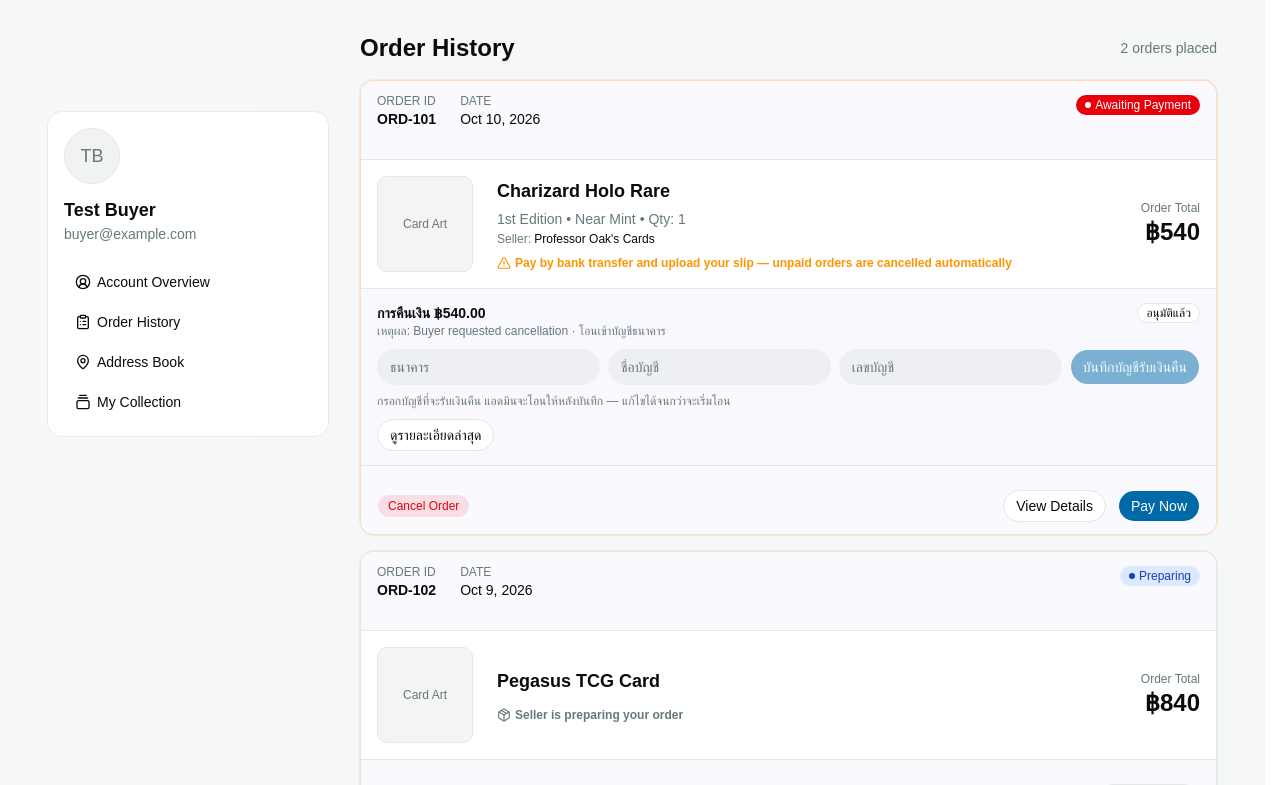
it: OrderHistoryPage › opens View Details modal with sticky close button, formatted status, and no bottom close button
This screenshot has width=1280, height=785.
What coordinates should you click on to do the following:
click the button "View Details" below "อนุมัติแล้ว"
I would click on:
 (1055, 506)
Its box is x1=1003 y1=490 x2=1106 y2=522.
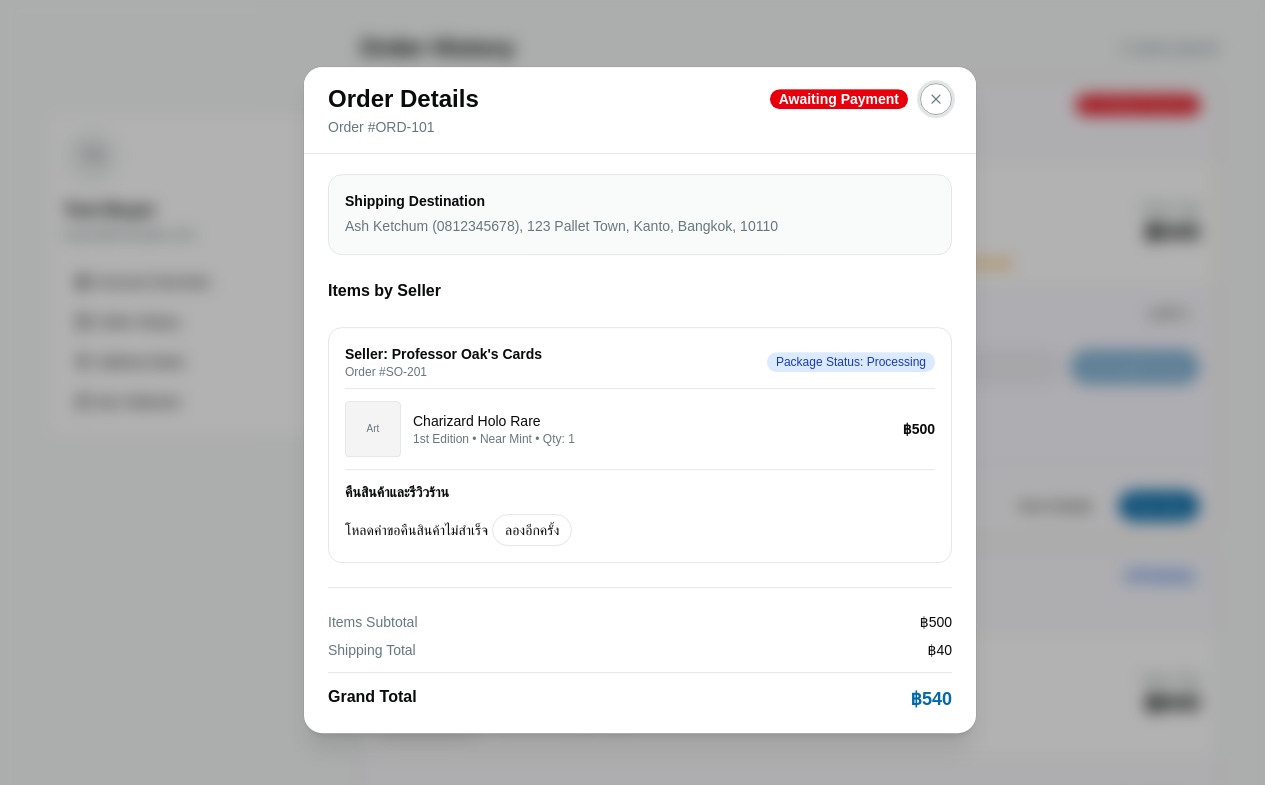
Check: the heading "Order Details" is shown, box x1=328 y1=83 x2=479 y2=115
Check: the text "Order #ORD-101" is shown, box x1=328 y1=119 x2=435 y2=135
Check: the text "Package Status: Processing" is shown, box x1=767 y1=352 x2=935 y2=372
// Clicking top-right close icon button closes the modal
What coordinates should you click on to do the following:
click the button named "close"
I would click on:
 (936, 99)
Its box is x1=920 y1=83 x2=952 y2=115.
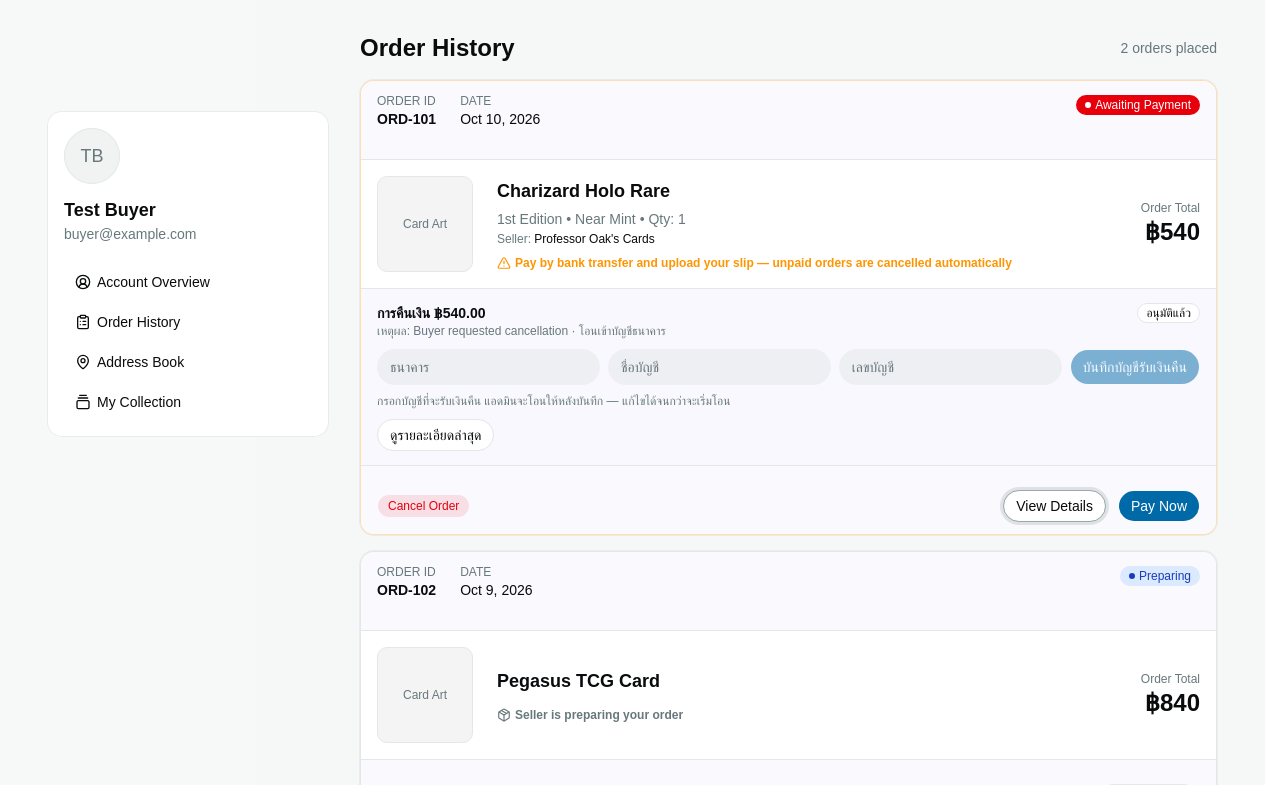
Check: the text "Order #ORD-101" is gone
